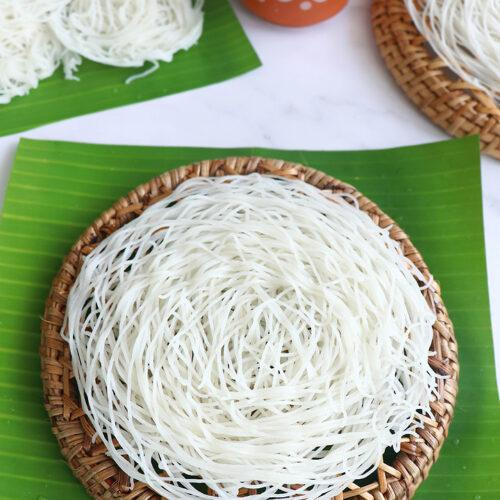String Hoppers: (52, 164, 465, 491)
